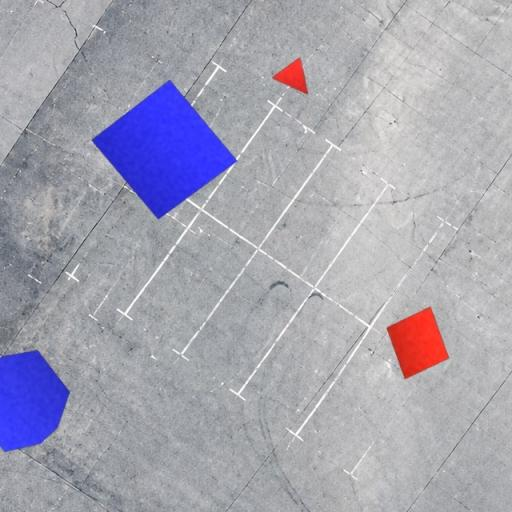BLUE_SQUARE: (90, 79, 238, 220)
RED_SQUARE: (386, 306, 450, 380)
